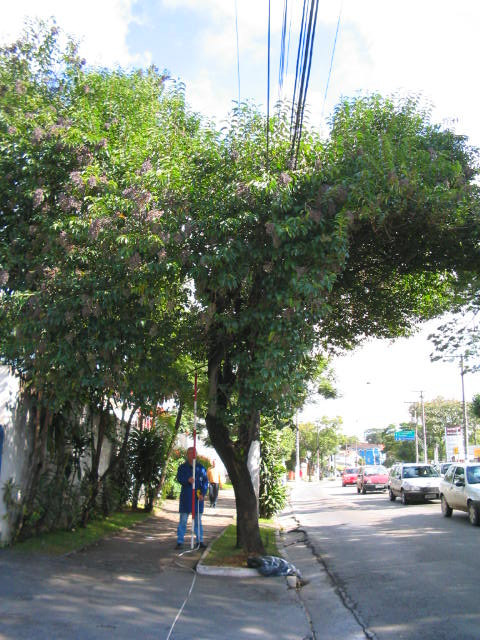crown: (4, 68, 480, 451)
stem: (210, 451, 276, 553)
stick: (184, 370, 202, 549)
tree: (1, 66, 480, 556)
